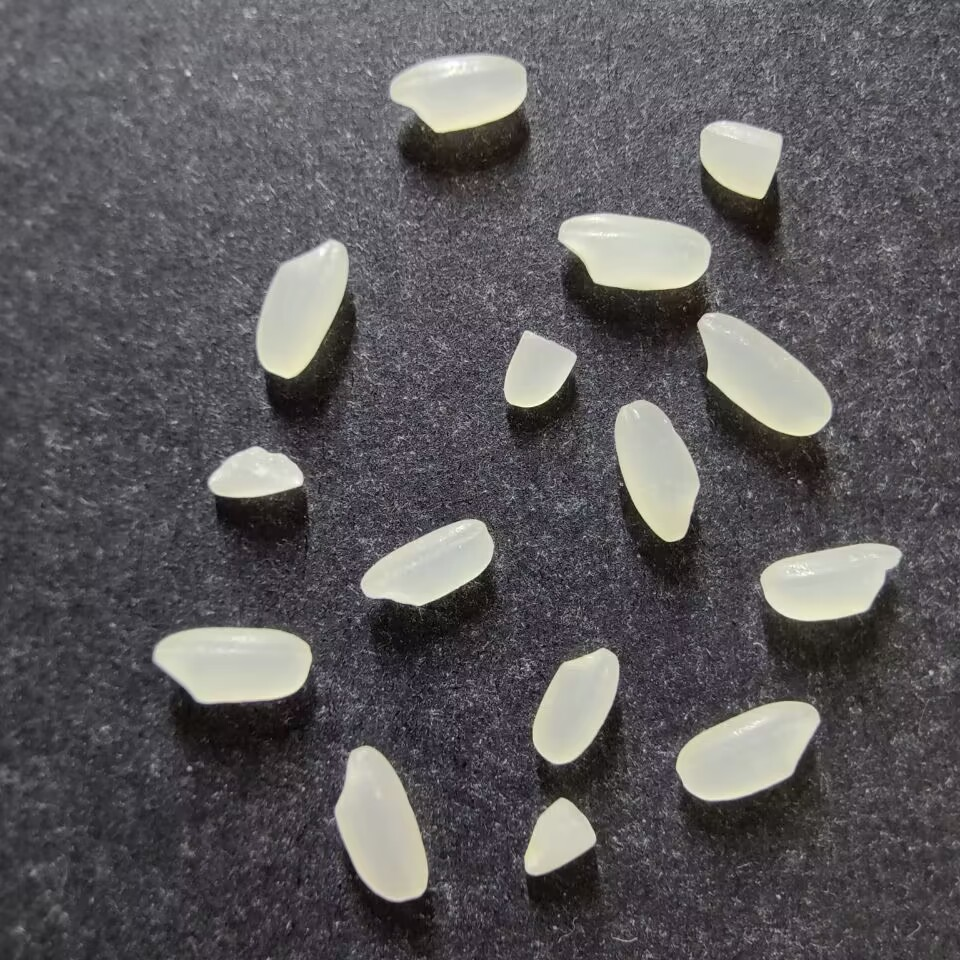broken: (698, 120, 783, 200), (522, 796, 597, 876), (502, 329, 577, 408), (207, 445, 304, 498)
rice: (696, 311, 834, 437), (332, 745, 428, 902), (675, 700, 820, 802), (255, 238, 349, 380), (151, 625, 311, 705), (613, 398, 700, 542), (557, 211, 711, 291), (360, 518, 495, 607), (388, 53, 528, 133), (760, 543, 901, 622), (531, 647, 620, 765)
